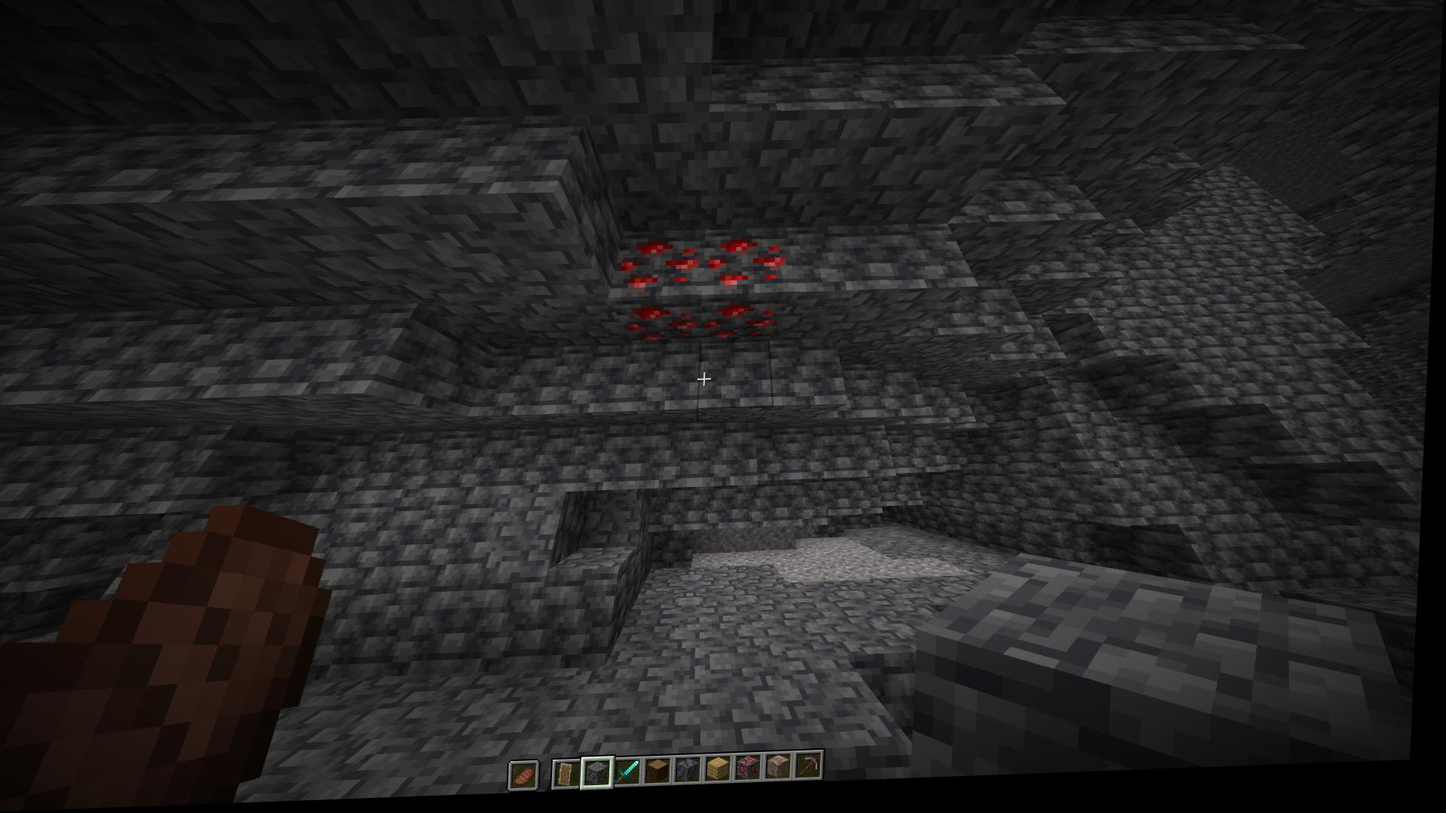redstone ore: (616, 238, 706, 303), (708, 234, 793, 300), (704, 295, 784, 350), (629, 302, 707, 348)
